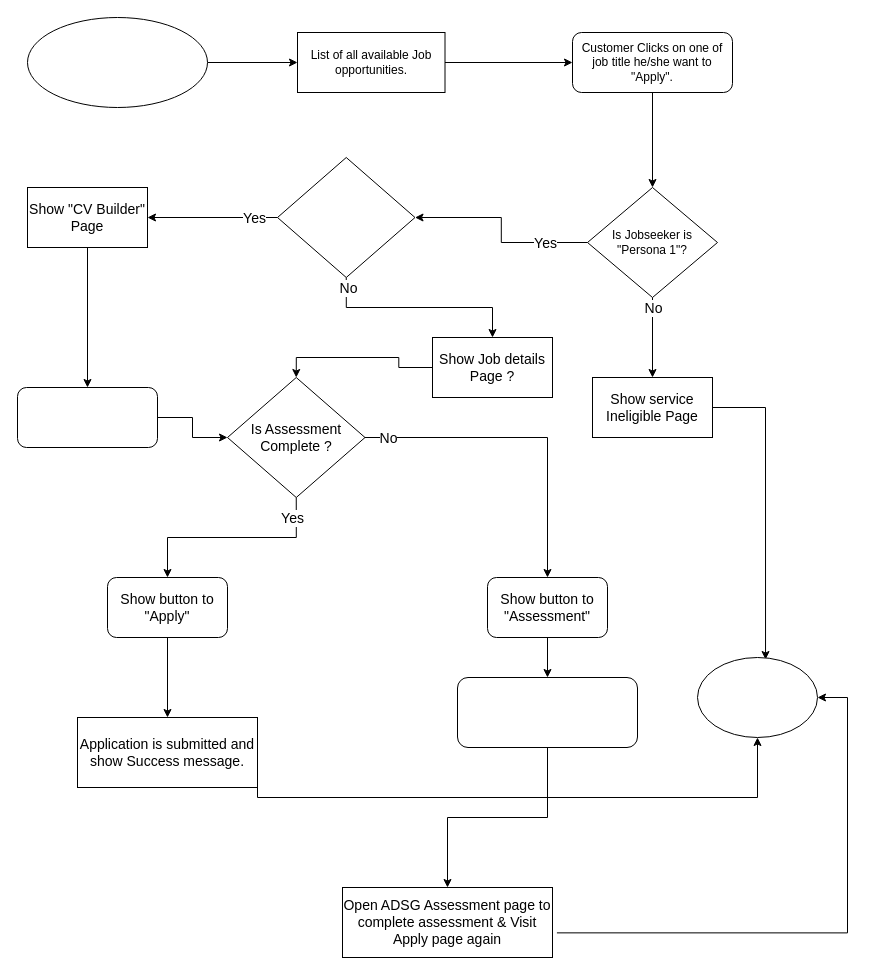
Some shapes in this 873 by 975 pixel diagram are drawn without their labels. Here are the shapes that lost their labels. From the top down, the centre of each, then its label:
pixel 117 62: Customer Visits Journey page and clicks "start"
pixel 345 217: Is Jobseeker new "Registration"?
pixel 87 417: Complete CV Profile and proceed to Assessment
pixel 547 712: Click on Assessment to open Assessment Window
pixel 757 697: End
